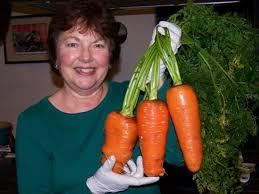Organic: (106, 32, 225, 194)
